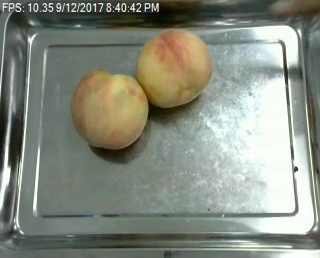Peach: (72, 70, 150, 150), (136, 28, 213, 107)
